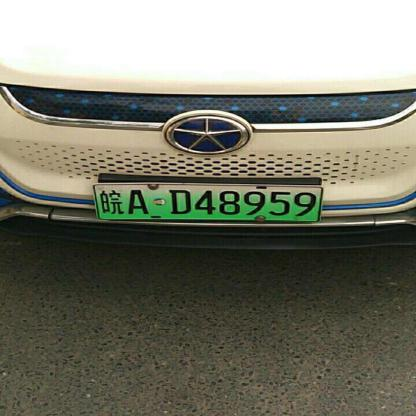lp: (93, 184, 322, 219)
